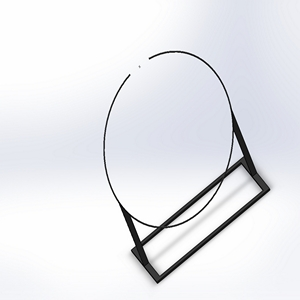circle: (100, 48, 271, 281)
